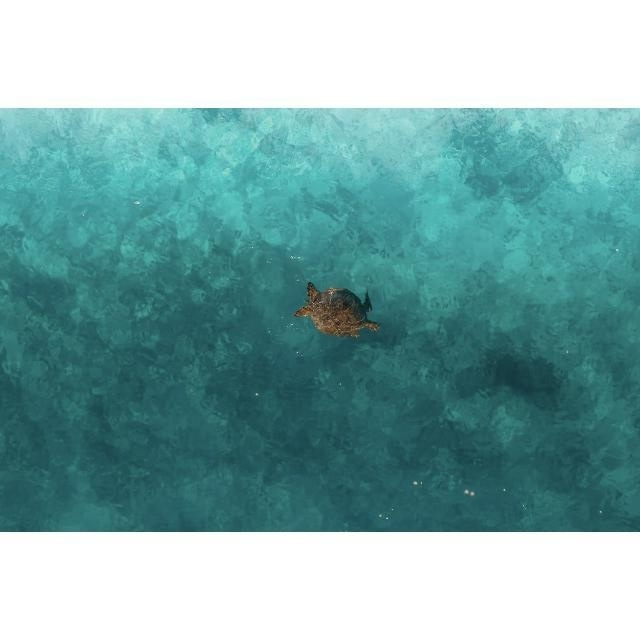turtle: (294, 281, 382, 339)
